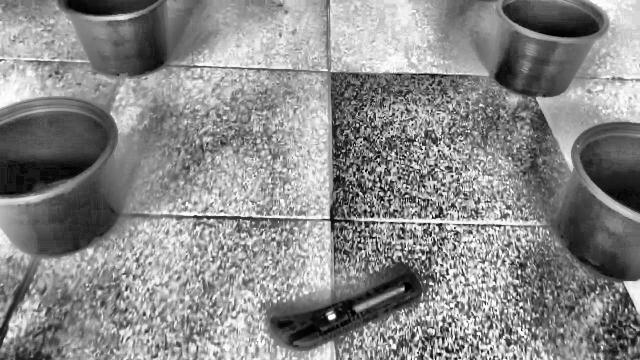pot: (0, 97, 122, 258), (552, 122, 640, 282), (488, 0, 610, 99)
